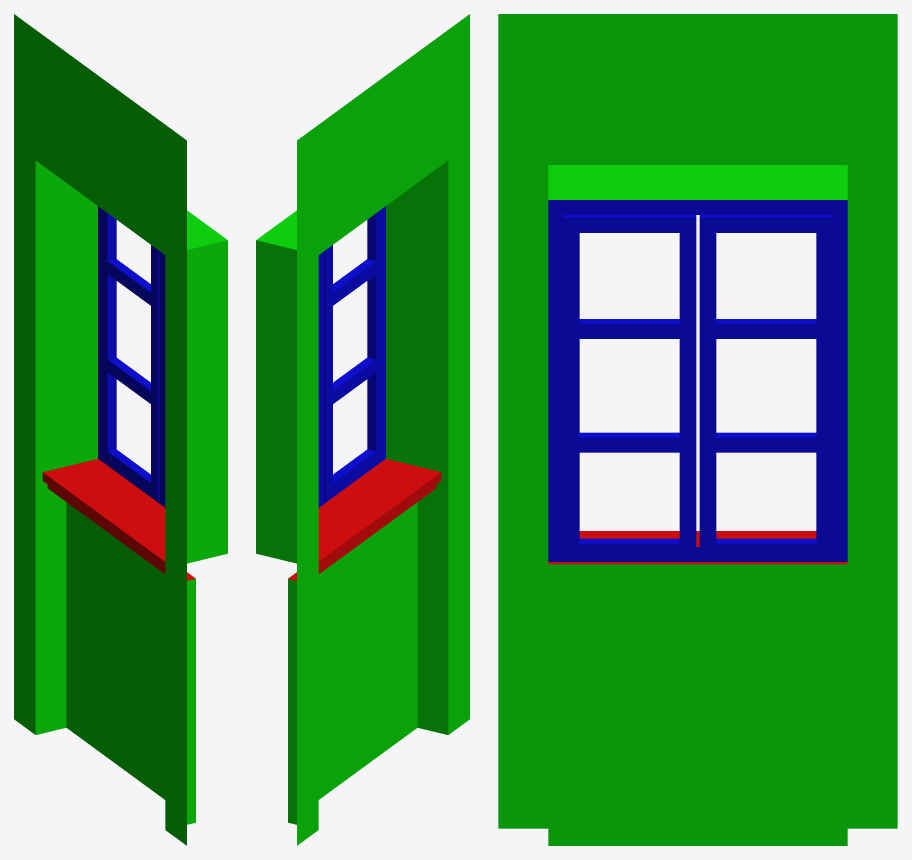
File: Muro_Finestra.fbx
The picture shows the model from 3 angles, left to right: view 1: azimuth 30°, elevation 25°; view 2: azimuth 150°, elevation 25°; view 3: azimuth 270°, elevation 25°; orthographic projection. The views are drawn at different scales.
Visible parts, largest first — view 1: Plane.002; view 2: Plane.002; view 3: Plane.002.
Part boxes in pixels (box(x1,y1,x2,y2)): Plane.002: box(14, 14, 227, 845); Plane.002: box(256, 14, 469, 845); Plane.002: box(498, 14, 897, 845).
Size of the model in its own units: 26.88 by 270 by 120.
